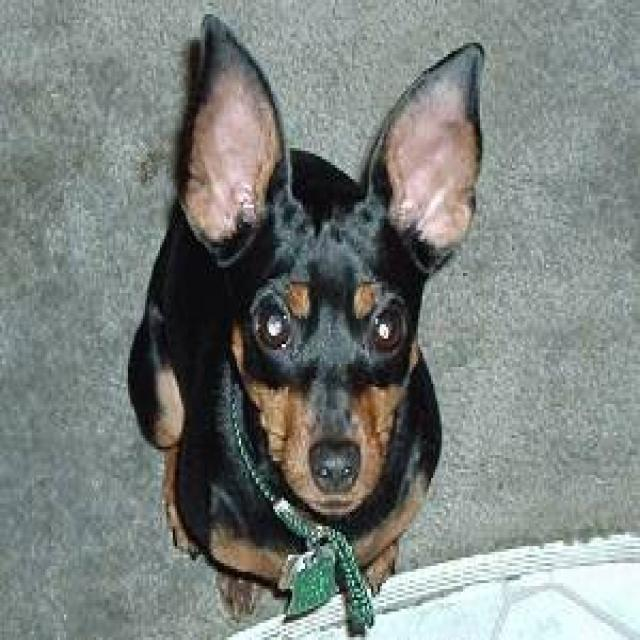dog-miniature_pinscher: (115, 3, 491, 626)
